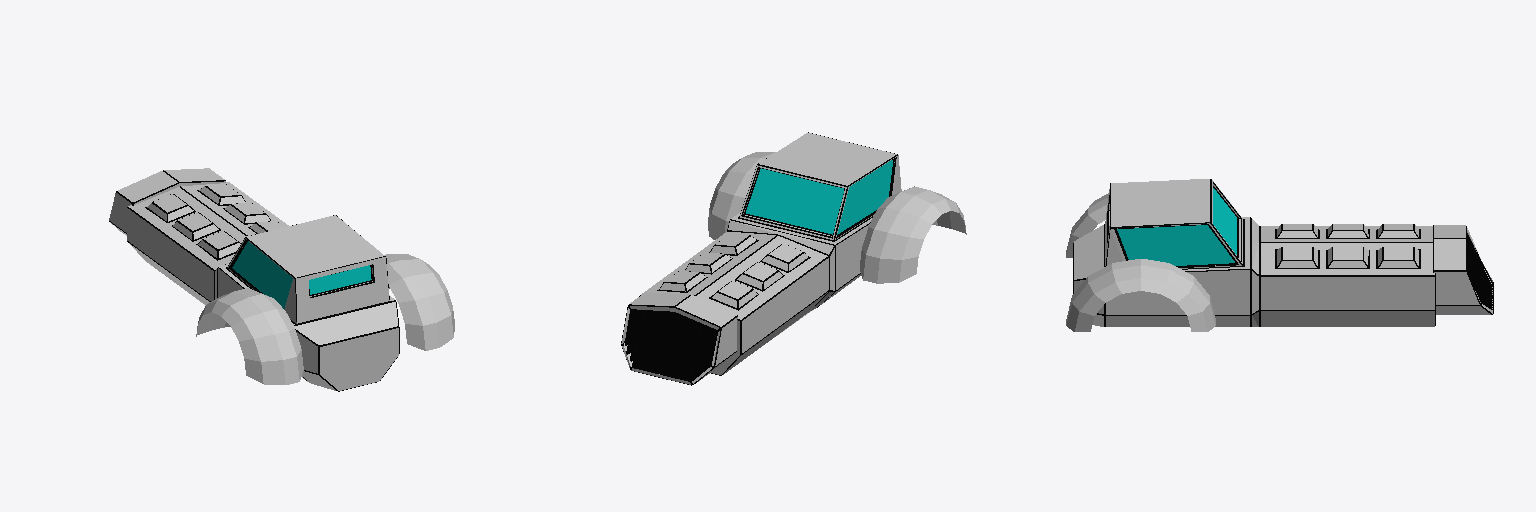
The model's file is retro_1.obj.
3 renders of one model, left to right at view 1: azimuth 30°, elevation 25°; view 2: azimuth 150°, elevation 25°; view 3: azimuth 270°, elevation 25°, orthographic.
Visible parts, largest first — view 1: Cube, Cylinder_Cylinder.001; view 2: Cube, Cylinder_Cylinder.001, Cube.001; view 3: Cube, Cylinder_Cylinder.001, Cube.001.
Part boxes in pixels (x1,y1,x2,y2): Cube: (109, 168, 399, 391); Cylinder_Cylinder.001: (196, 254, 454, 384); Cube: (621, 132, 901, 385); Cylinder_Cylinder.001: (708, 152, 966, 283); Cube.001: (625, 309, 717, 381); Cube: (1073, 179, 1493, 326); Cylinder_Cylinder.001: (1066, 193, 1215, 331); Cube.001: (1467, 233, 1492, 309).
Bounding box in the file's own units: 2.19 × 1.12 × 3.89.